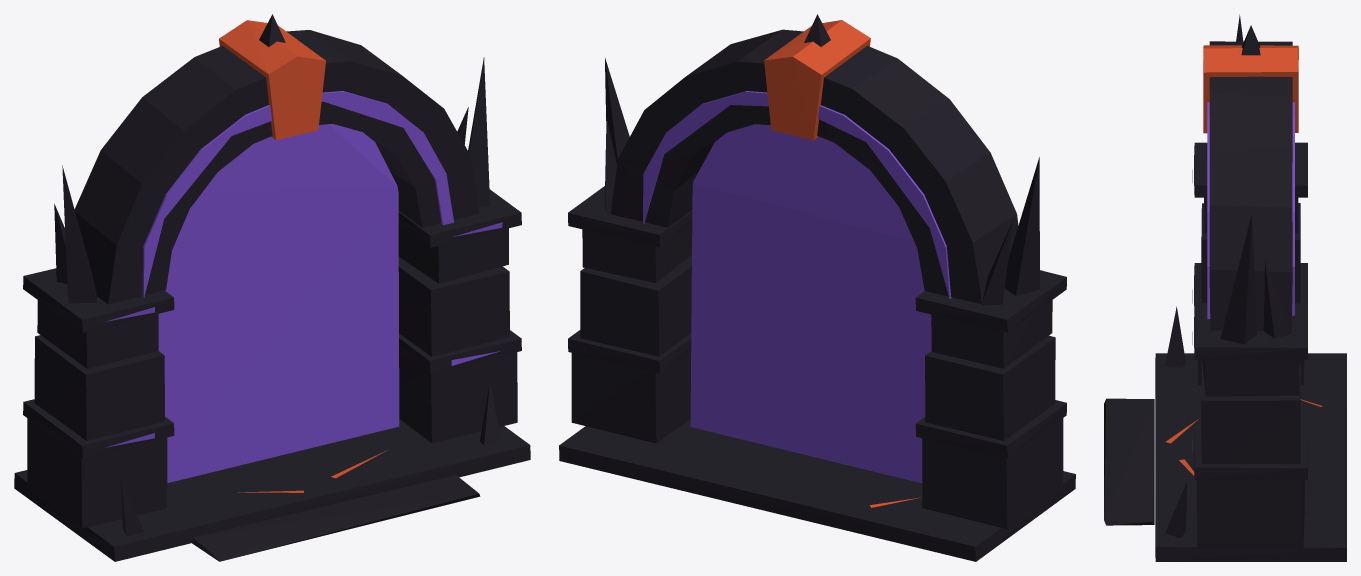
File: portal_gate_lod1.obj
3 views of the same model, side by side, from view 1: azimuth 30°, elevation 25°; view 2: azimuth 150°, elevation 25°; view 3: azimuth 270°, elevation 25° (orthographic). The views are drawn at different scales.
Parts seen in each view (by area): view 1: portal_gate_lod1; view 2: portal_gate_lod1; view 3: portal_gate_lod1.
Boxes of the visible parts, x1,y1,x2,y2 form: portal_gate_lod1: [14, 14, 530, 561]; portal_gate_lod1: [559, 14, 1075, 561]; portal_gate_lod1: [1104, 14, 1346, 561].
Bounding box in the file's own units: 3.99 × 3.99 × 2.
